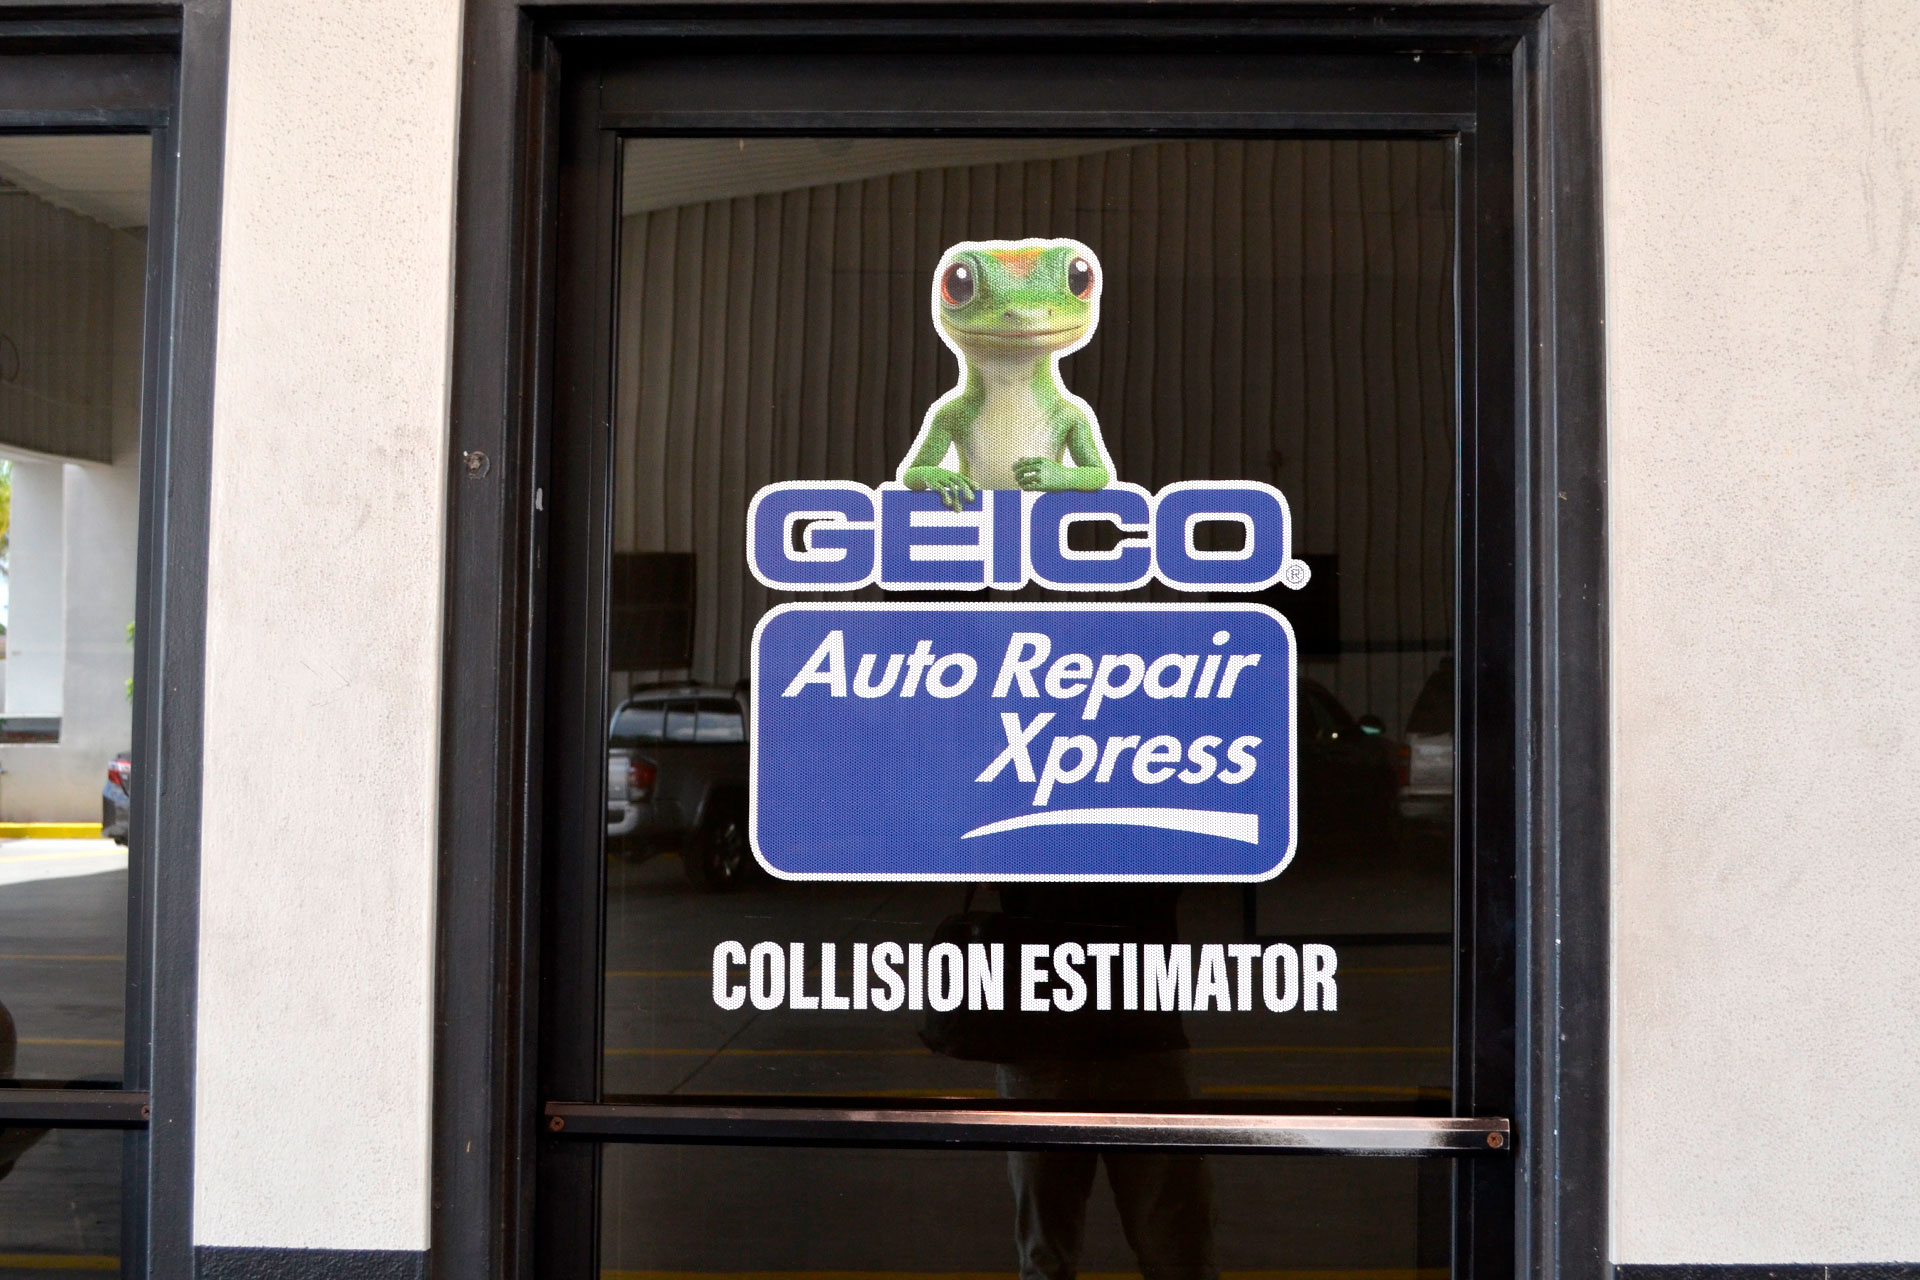geico: (739, 474, 1324, 617)
